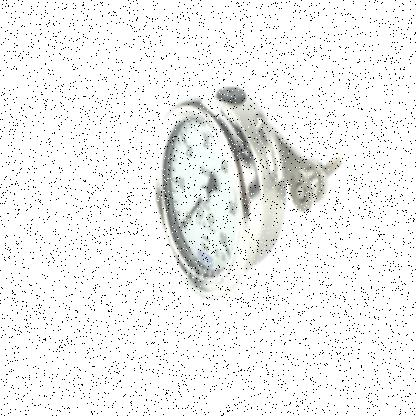needle: (182, 197, 202, 226)
